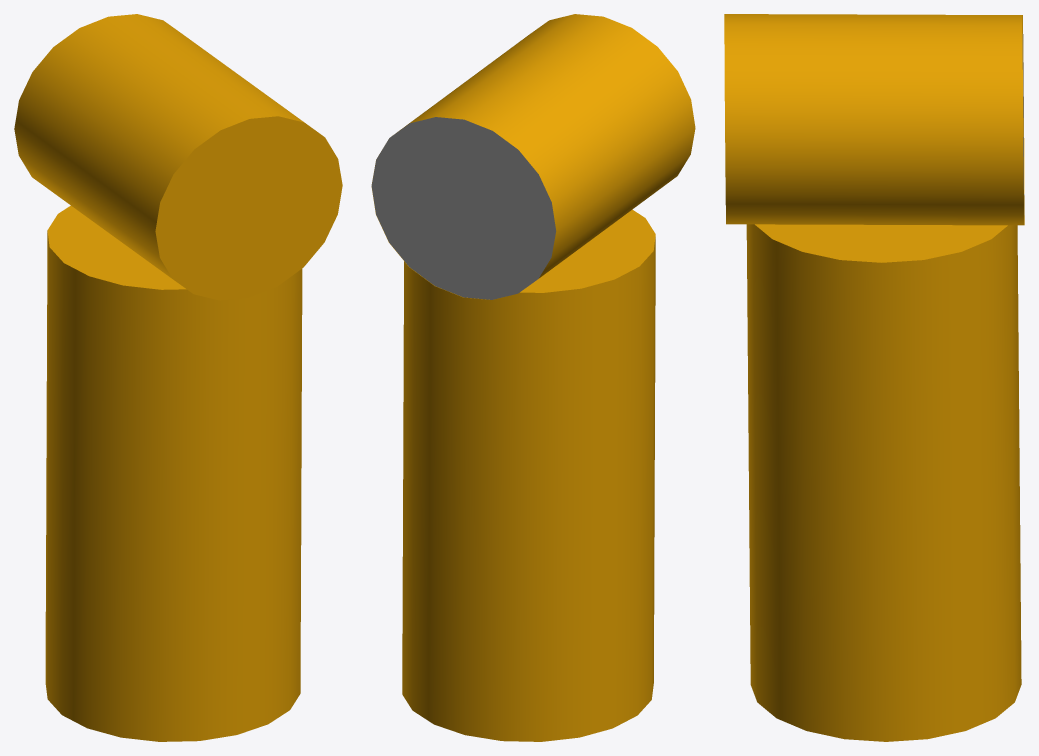
The model's file is Door.fbx.
3 views of the same model, side by side, from view 1: azimuth 30°, elevation 25°; view 2: azimuth 150°, elevation 25°; view 3: azimuth 270°, elevation 25° (orthographic). The views are drawn at different scales.
Parts seen in each view (by area): view 1: pCylinder3, polySurface2; view 2: pCylinder3, polySurface2, picutre1; view 3: pCylinder3, polySurface2.
Part boxes in pixels (box(x1,y1,x2,y2)): pCylinder3: box(45, 205, 302, 741); polySurface2: box(14, 14, 342, 300); pCylinder3: box(402, 209, 655, 741); polySurface2: box(371, 14, 695, 299); picutre1: box(371, 117, 556, 299); pCylinder3: box(746, 224, 1021, 741); polySurface2: box(724, 14, 1024, 225).
Size of the model in its own units: 4.23 by 11.37 by 4.68.
